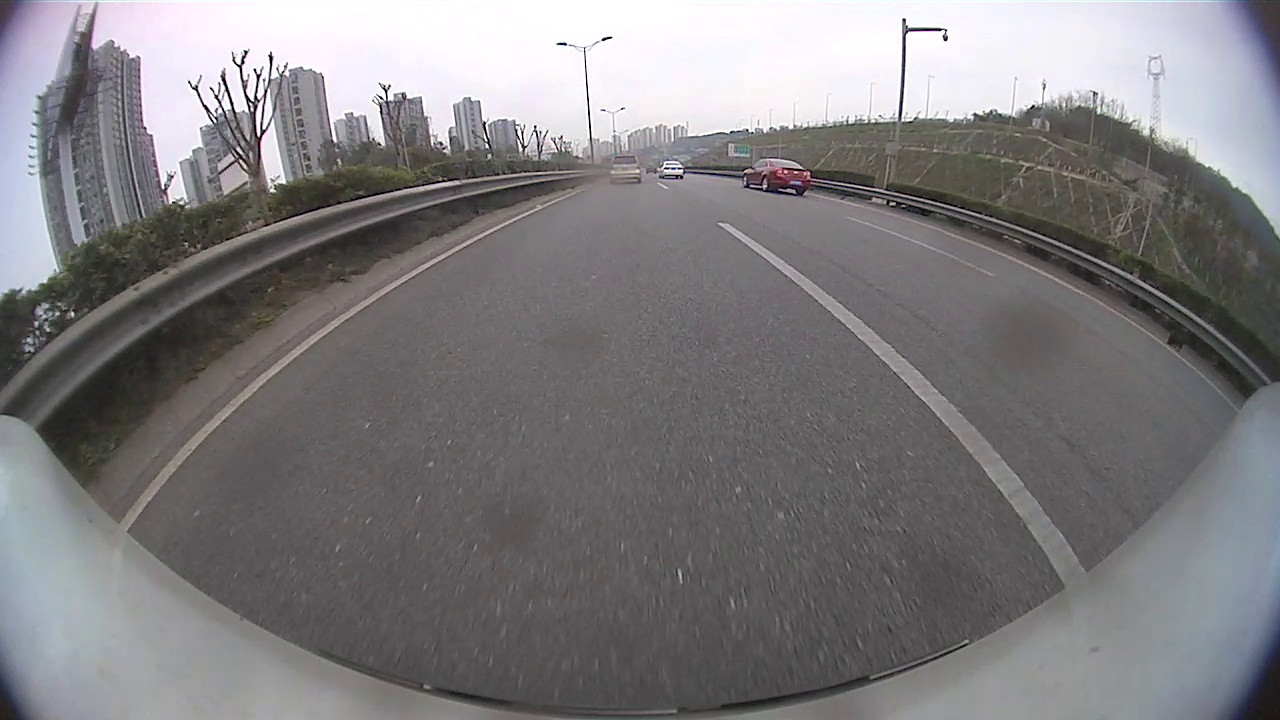car: (739, 158, 813, 196), (608, 153, 643, 183), (656, 160, 684, 178)
front: (741, 176, 748, 189)
rear: (761, 179, 771, 192)
